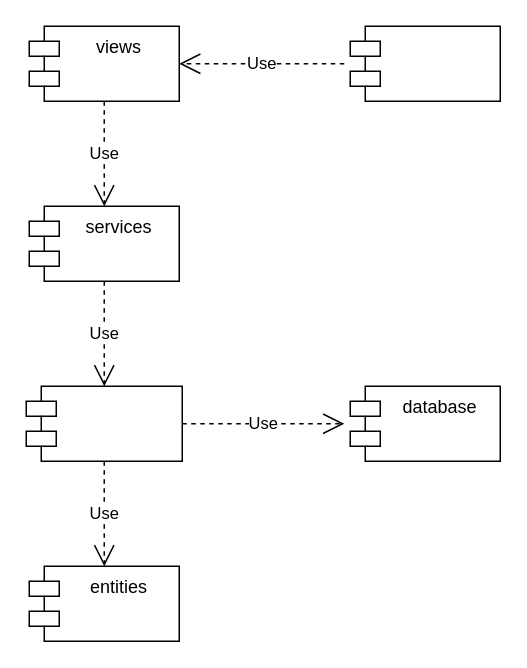
This 527x668 diagram has some shape labels left out. Each missing label, with the box of its shape:
main: (349, 25, 500, 101)
models: (25, 385, 182, 461)
